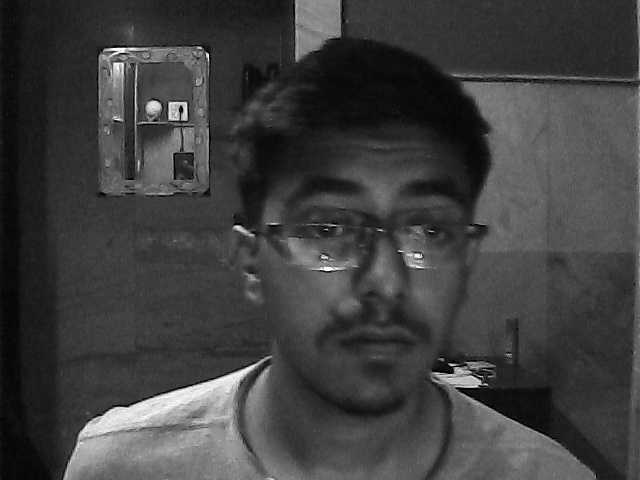nomask: (259, 104, 470, 413)
